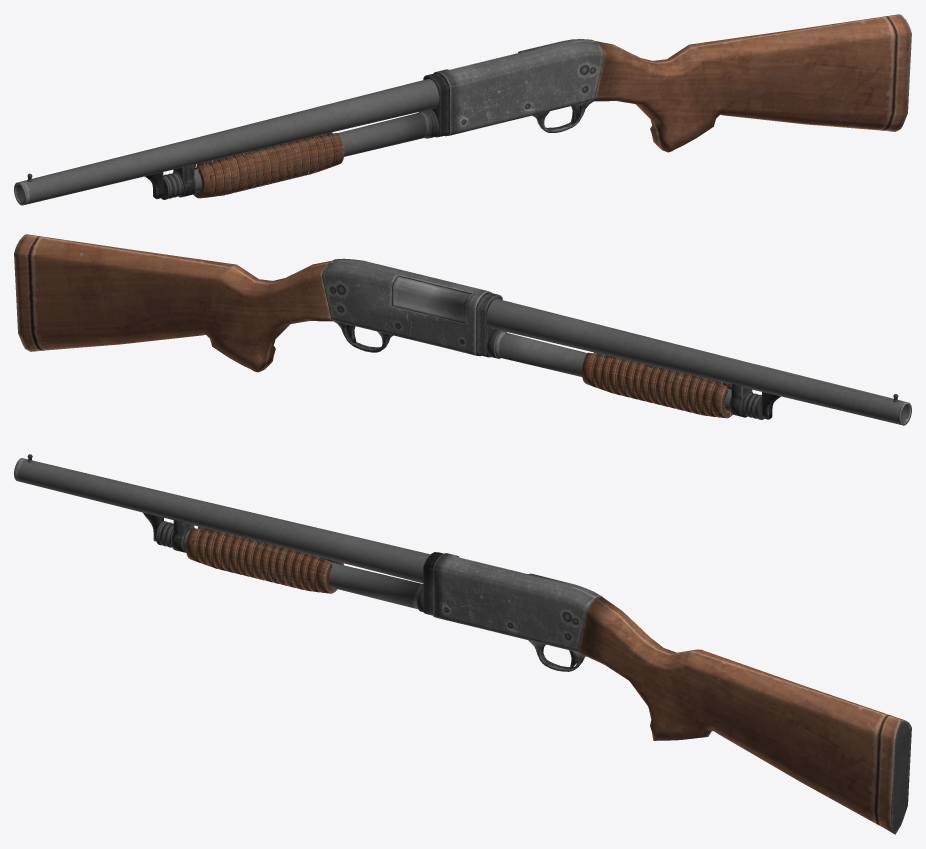
The model's file is Shotgun.fbx.
The picture shows the model from 3 angles, top to bottom: view 1: azimuth 30°, elevation 25°; view 2: azimuth 150°, elevation 25°; view 3: azimuth 330°, elevation 25°; orthographic projection.
Visible parts, largest first — view 1: Shotgun_final_Cylinder_006, Shotgun_final_Cylinder; view 2: Shotgun_final_Cylinder_006, Shotgun_final_Cylinder; view 3: Shotgun_final_Cylinder_006, Shotgun_final_Cylinder.
Part boxes in pixels (x1=…): Shotgun_final_Cylinder_006: x1=14, y1=14, x2=911, y2=205; Shotgun_final_Cylinder: x1=193, y1=132, x2=344, y2=198; Shotgun_final_Cylinder_006: x1=14, y1=234, x2=911, y2=425; Shotgun_final_Cylinder: x1=582, y1=352, x2=732, y2=418; Shotgun_final_Cylinder_006: x1=14, y1=454, x2=911, y2=834; Shotgun_final_Cylinder: x1=186, y1=526, x2=343, y2=593.
Bounding box in the file's own units: 17.95 × 3.28 × 0.6646.
2 materials, 2 textured.
